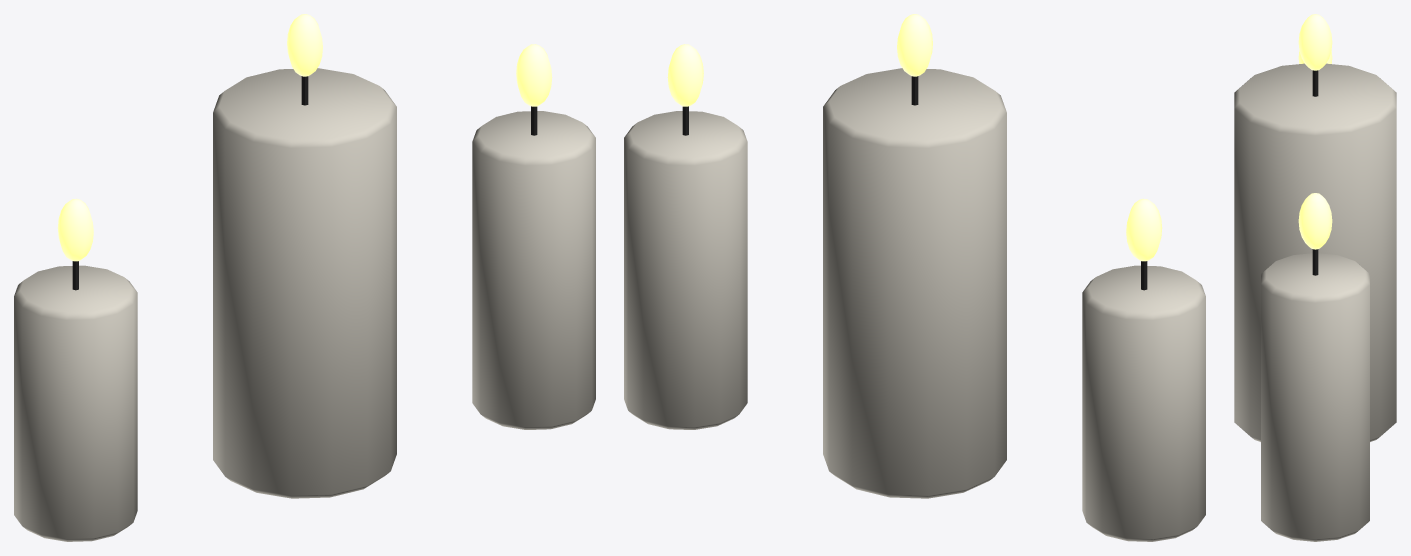
Rendered from i_candles_1.glb.
The picture shows the model from 3 angles, left to right: view 1: azimuth 30°, elevation 25°; view 2: azimuth 150°, elevation 25°; view 3: azimuth 270°, elevation 25°; orthographic projection. The views are drawn at different scales.
Visible parts, largest first — view 1: o.003, o.006, o, o.005, o.008, o.002; view 2: o.003, o.006, o, o.005, o.008, o.002; view 3: o.003, o.006, o.005, o.008.
Boxes of the visible parts, x1,y1,x2,y2 form: o.003: (213, 68, 396, 498); o.006: (472, 111, 595, 429); o: (14, 265, 137, 541); o.005: (287, 14, 322, 76); o.008: (516, 44, 552, 106); o.002: (57, 198, 93, 261); o.003: (823, 68, 1006, 498); o.006: (624, 111, 747, 429); o: (1082, 265, 1205, 541); o.005: (897, 14, 932, 76); o.008: (667, 44, 703, 106); o.002: (1126, 198, 1162, 261); o.003: (1234, 63, 1396, 441); o.006: (1261, 253, 1369, 541); o.005: (1298, 14, 1332, 70); o.008: (1298, 193, 1332, 249).
Size of the model in its own units: 0.2098 by 0.1587 by 0.0578.
